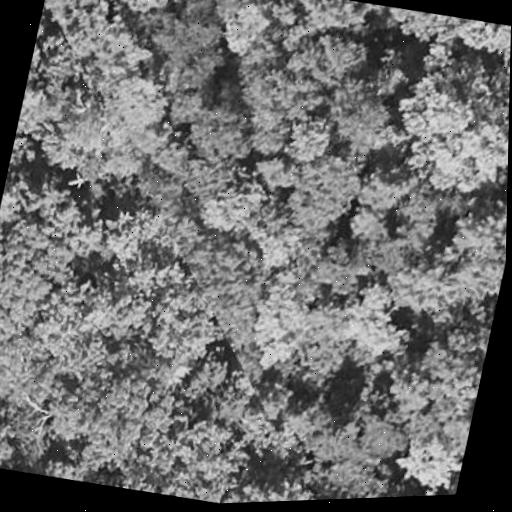tree-top: (378, 49, 510, 206), (42, 70, 167, 195), (58, 359, 174, 478), (228, 41, 329, 170), (240, 260, 344, 380), (217, 365, 331, 471), (388, 320, 488, 440), (24, 273, 128, 381), (169, 231, 267, 341), (141, 1, 236, 104), (51, 0, 157, 92), (316, 70, 411, 166), (160, 407, 252, 506), (329, 277, 422, 374), (135, 288, 224, 386), (0, 220, 78, 327), (305, 392, 403, 477), (435, 181, 508, 295), (281, 146, 364, 241), (187, 168, 282, 249), (179, 91, 266, 172), (276, 0, 382, 61), (406, 7, 511, 66), (388, 254, 468, 329), (390, 419, 466, 497), (300, 22, 373, 92), (213, 0, 289, 62), (25, 170, 95, 236), (360, 42, 422, 115), (223, 465, 338, 503), (14, 68, 68, 147), (26, 448, 117, 490), (311, 233, 371, 296), (280, 107, 337, 173), (0, 390, 60, 450), (344, 195, 398, 252), (40, 0, 123, 33), (0, 162, 37, 235), (111, 0, 181, 27), (0, 416, 26, 471)
